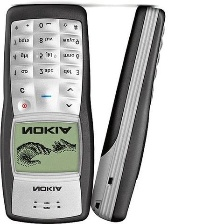phone: (0, 0, 97, 224), (87, 3, 167, 224)
